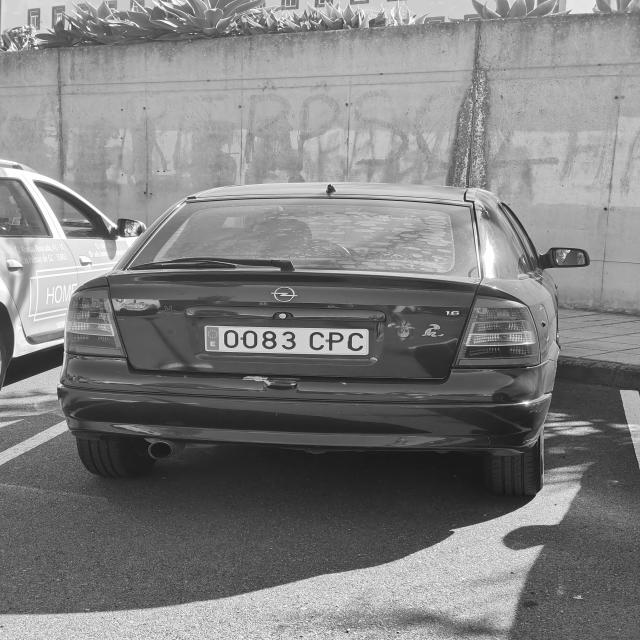License-Plate: (203, 324, 370, 357)
